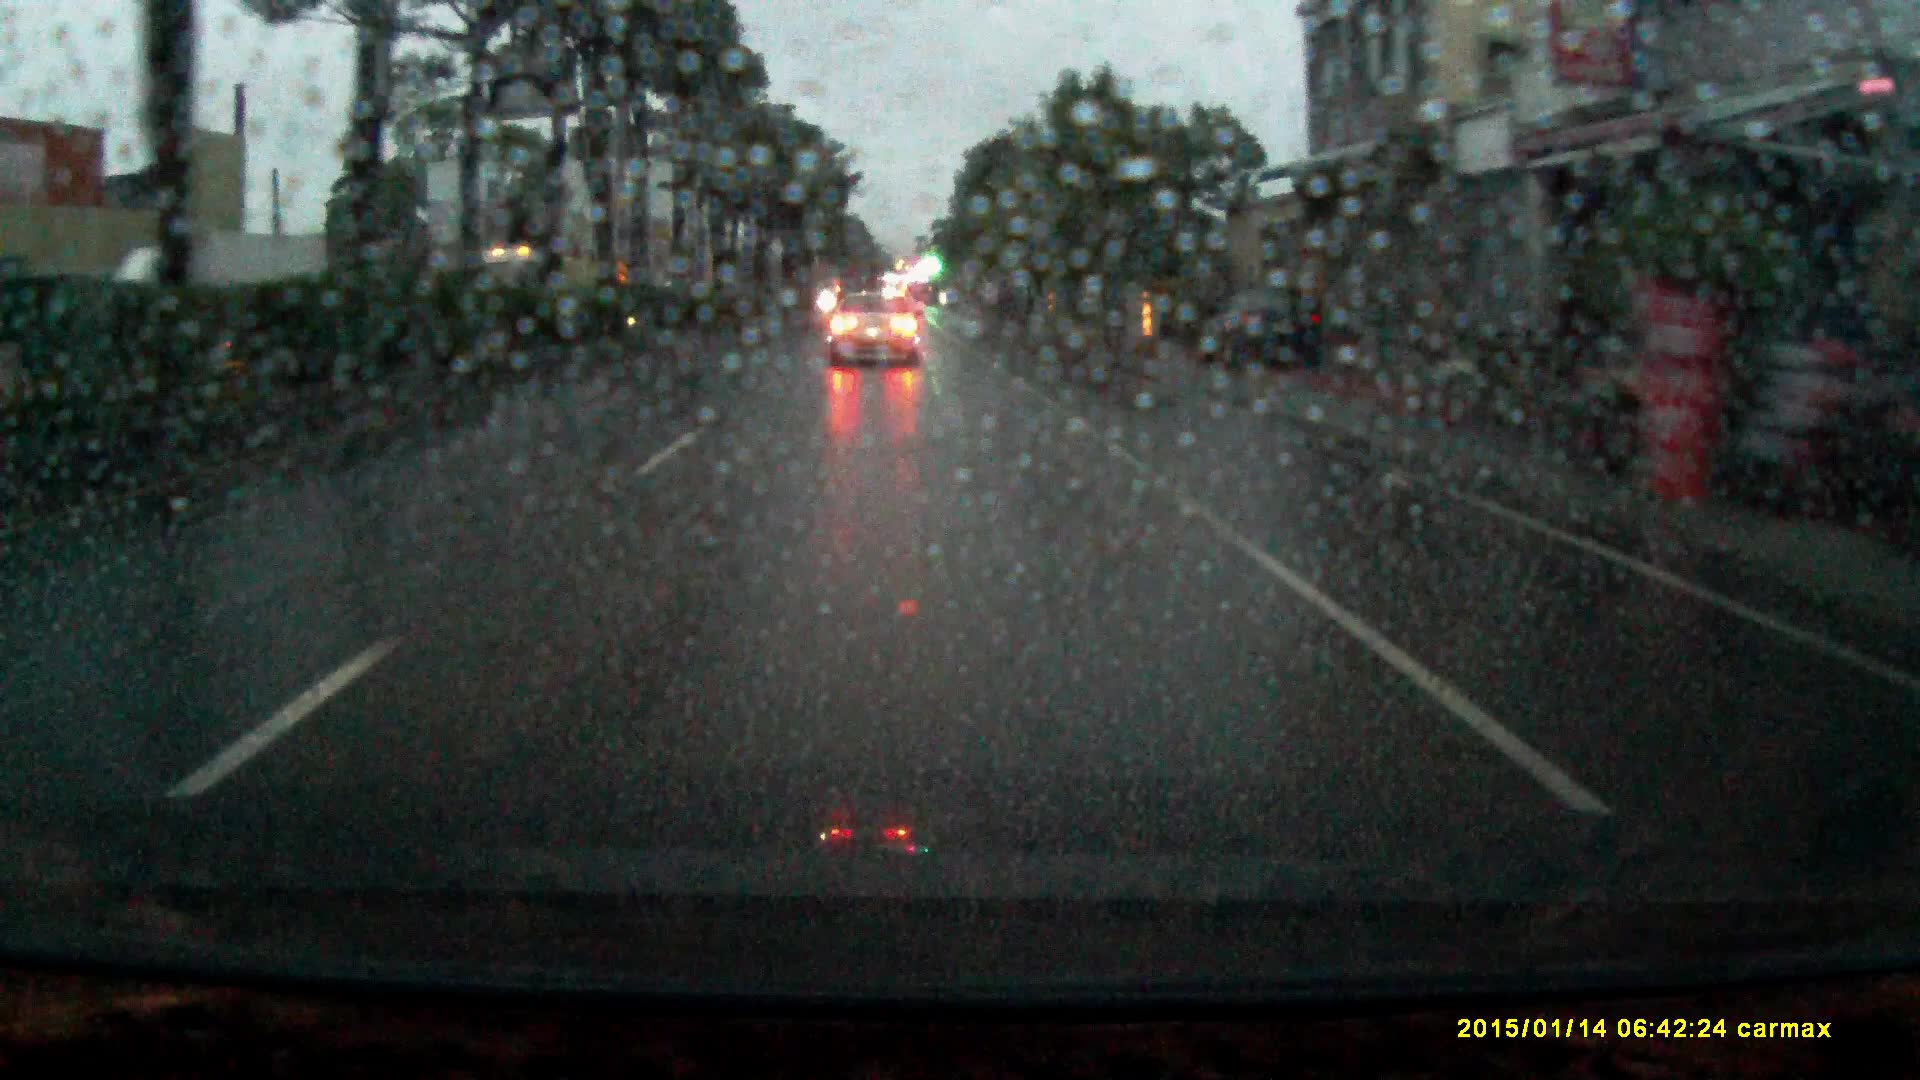vehicle: (113, 233, 324, 380), (459, 247, 605, 322), (1203, 301, 1325, 378), (825, 301, 924, 378)
